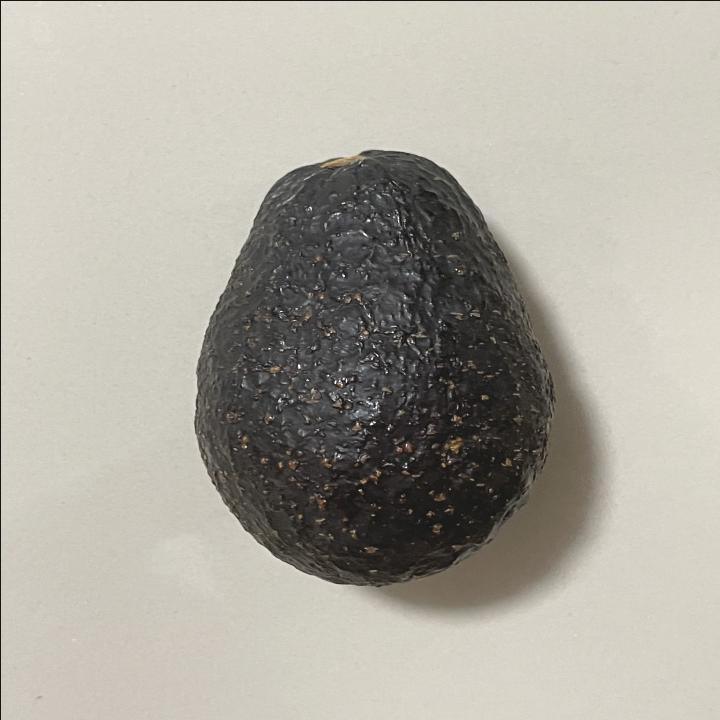Level3: (175, 134, 565, 594)
